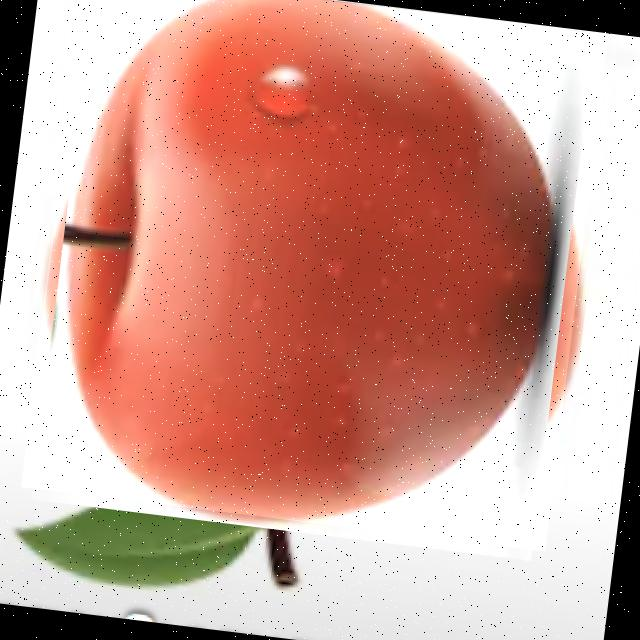Fresh Apple: (20, 0, 610, 552)
